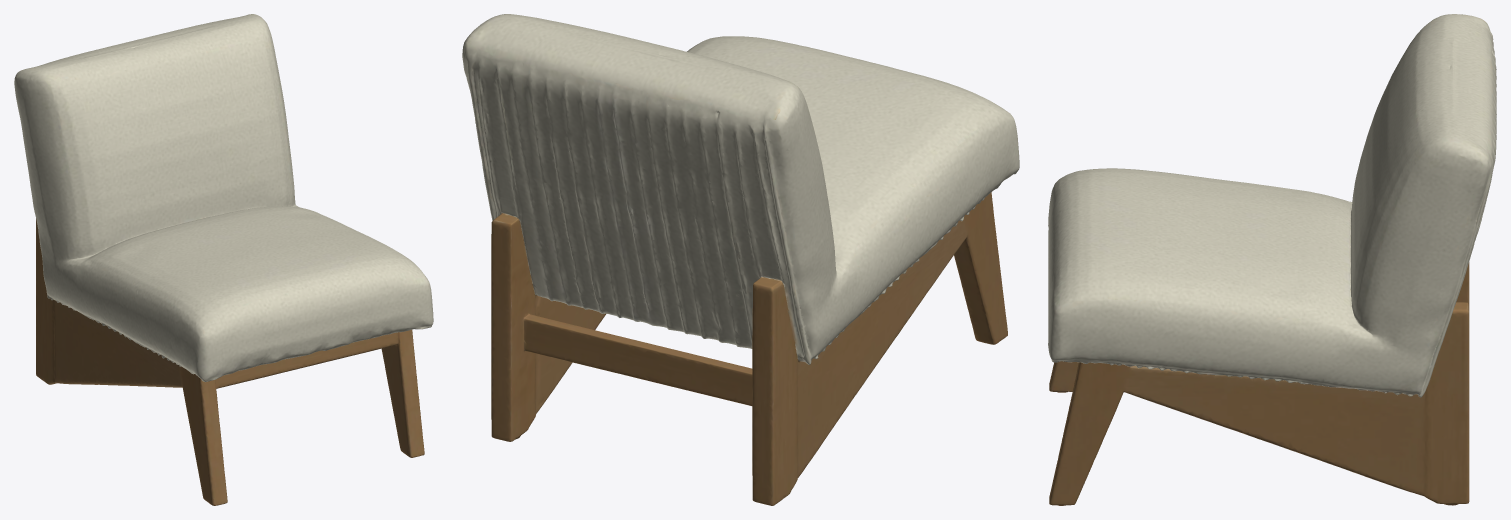
The model's file is chair-2.glb.
3 views of the same model, side by side, from view 1: azimuth 30°, elevation 25°; view 2: azimuth 150°, elevation 25°; view 3: azimuth 270°, elevation 25° (orthographic). The views are drawn at different scales.
Parts seen in each view (by area): view 1: world; view 2: world; view 3: world.
Boxes of the visible parts, x1,y1,x2,y2 form: world: (14,14,433,505); world: (462,14,1019,505); world: (1048,14,1496,505).
Size of the model in its own units: 0.7438 by 0.9169 by 1.
Materials: 1 (1 with a texture image).
